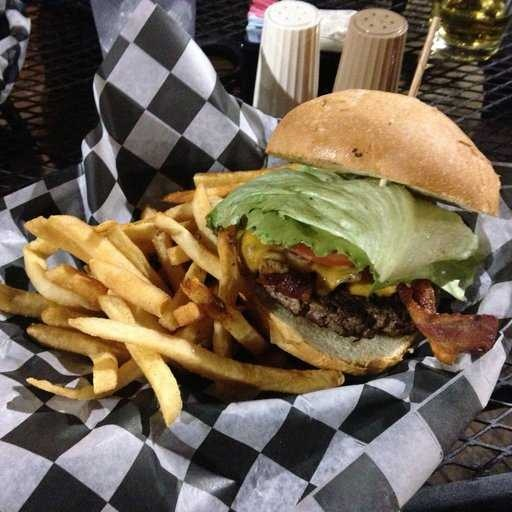hamburger: (241, 70, 501, 369)
